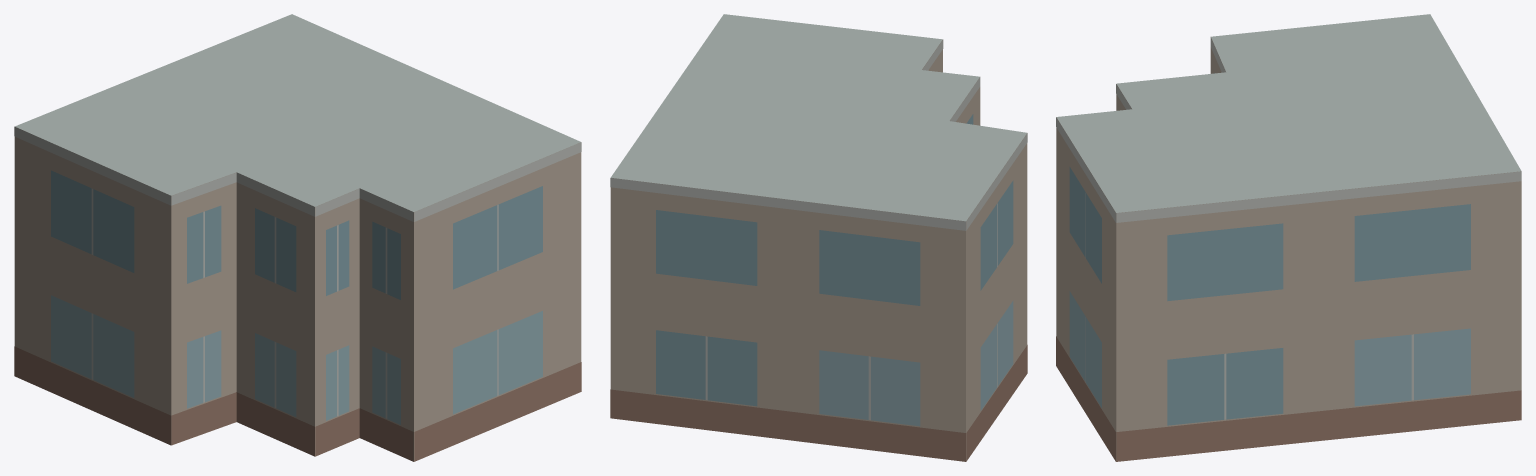
Rendered from survey-upis-32975707.glb.
3 views of the same model, side by side, from view 1: azimuth 30°, elevation 25°; view 2: azimuth 150°, elevation 25°; view 3: azimuth 270°, elevation 25° (orthographic). The views are drawn at different scales.
Parts seen in each view (by area): view 1: survey-upis-32975707.tmp; view 2: survey-upis-32975707.tmp; view 3: survey-upis-32975707.tmp.
Part boxes in pixels (box(x1,y1,x2,y2)): survey-upis-32975707.tmp: box(14, 14, 581, 461); survey-upis-32975707.tmp: box(610, 14, 1027, 461); survey-upis-32975707.tmp: box(1056, 14, 1521, 461).
Size of the model in its own units: 10.47 by 6.1 by 10.35.
